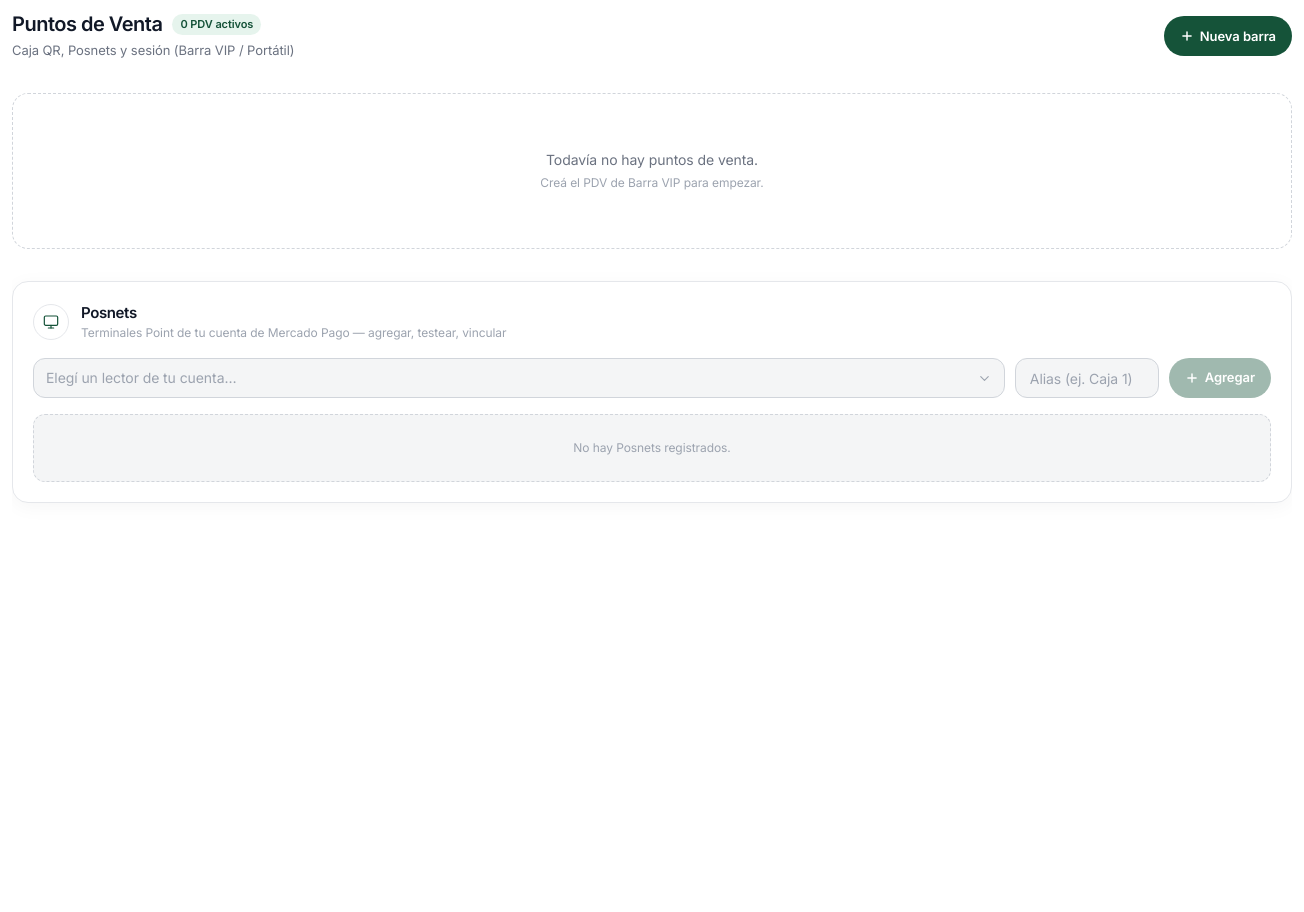
Test: PdvSection › registra un Posnet eligiéndolo de la lista de MP (el id no se tipea)
Check: the heading "Posnets" is shown, box x1=81 y1=302 x2=137 y2=322
Click the button with aria-label "Posnet reportado por Mercado Pago": [141, 378] box x1=33 y1=358 x2=1005 y2=398
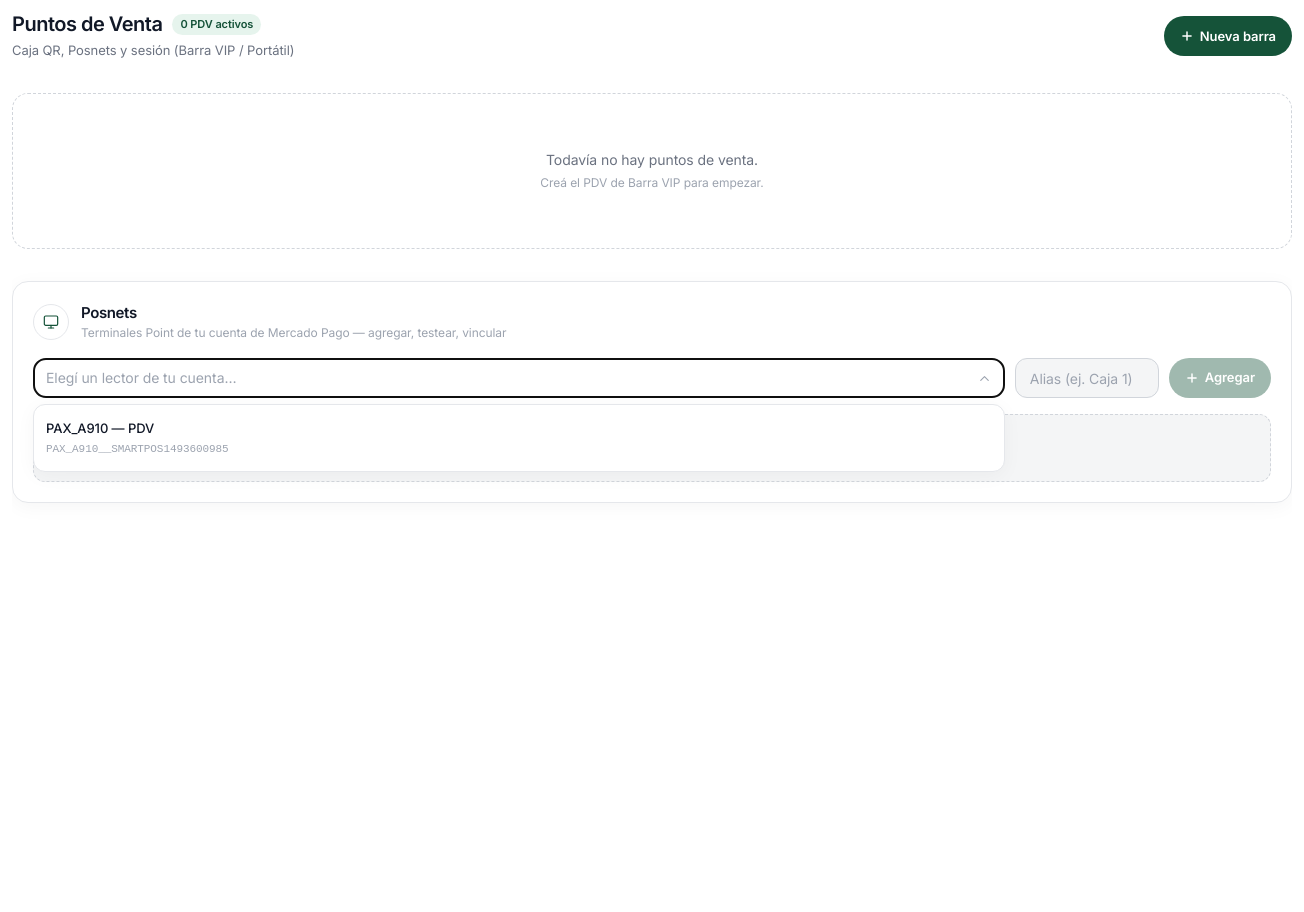
Click the option "PAX_A910 — PDV PAX_A910__SMARTPOS1493600985": [100, 428] box x1=34 y1=409 x2=1004 y2=467
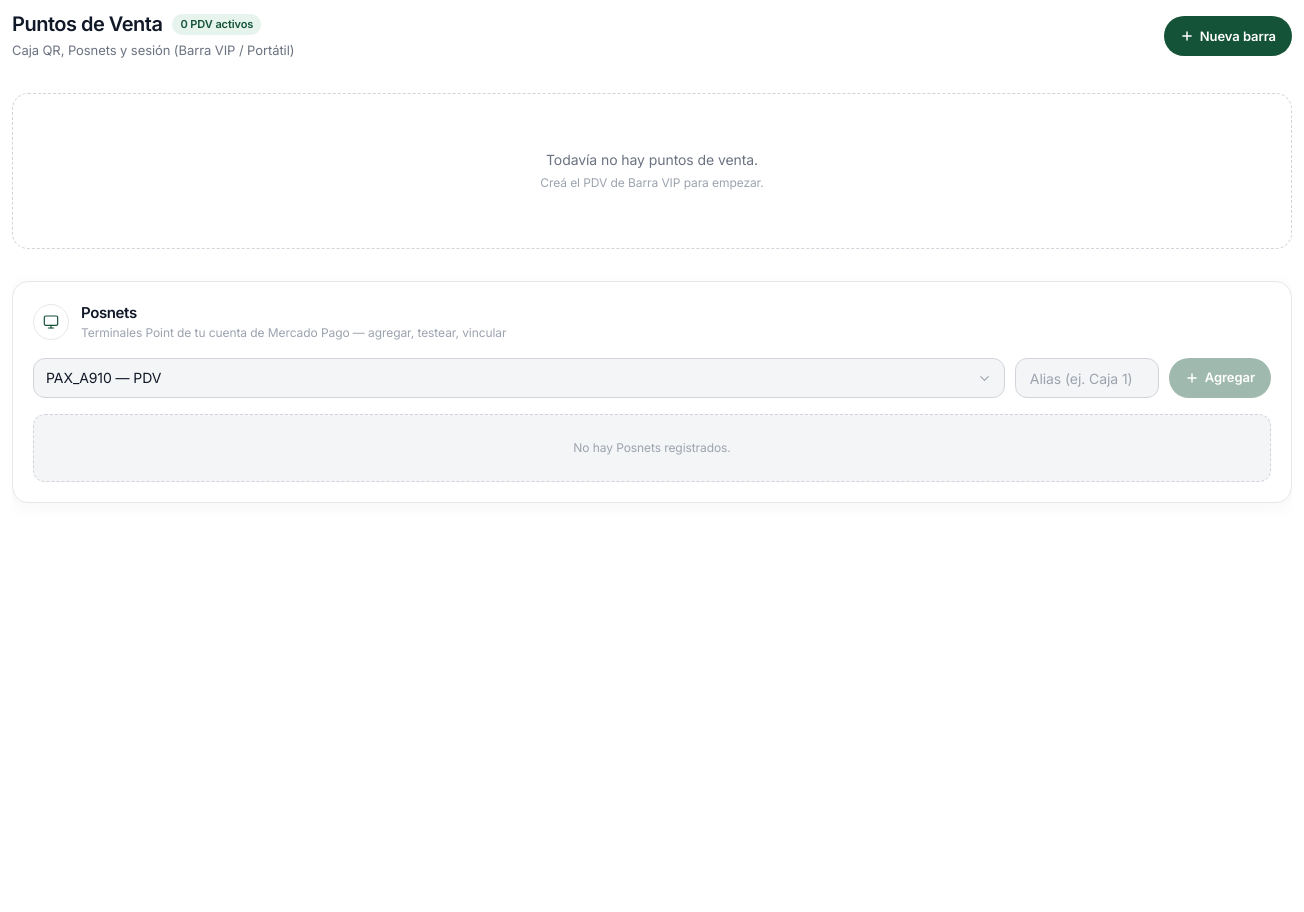
In the field named "Alias del Posnet": [1087, 378] box x1=1015 y1=358 x2=1159 y2=398, type "Caja 1"
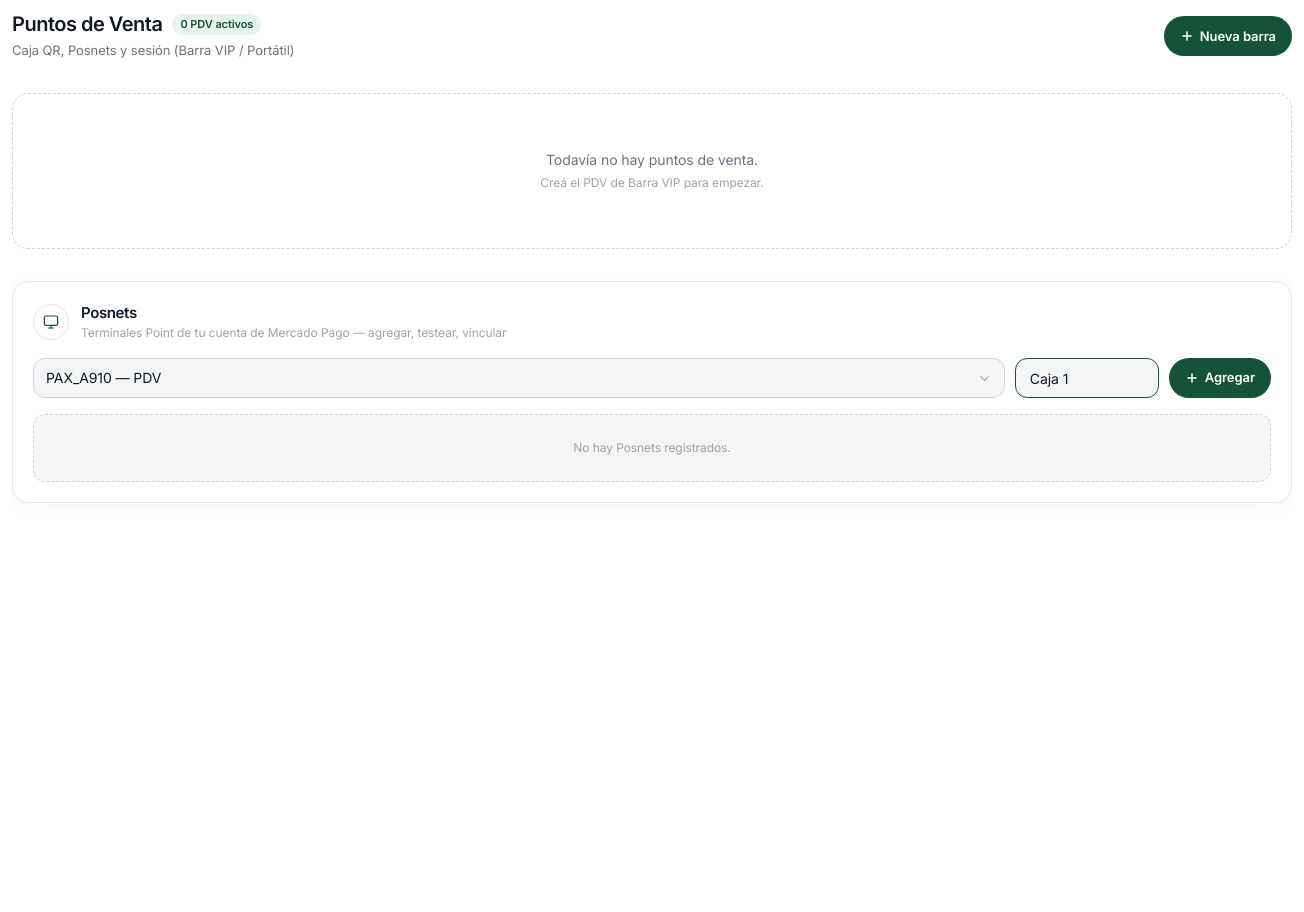
Click the button "Agregar": [1220, 378] box x1=1169 y1=358 x2=1271 y2=398
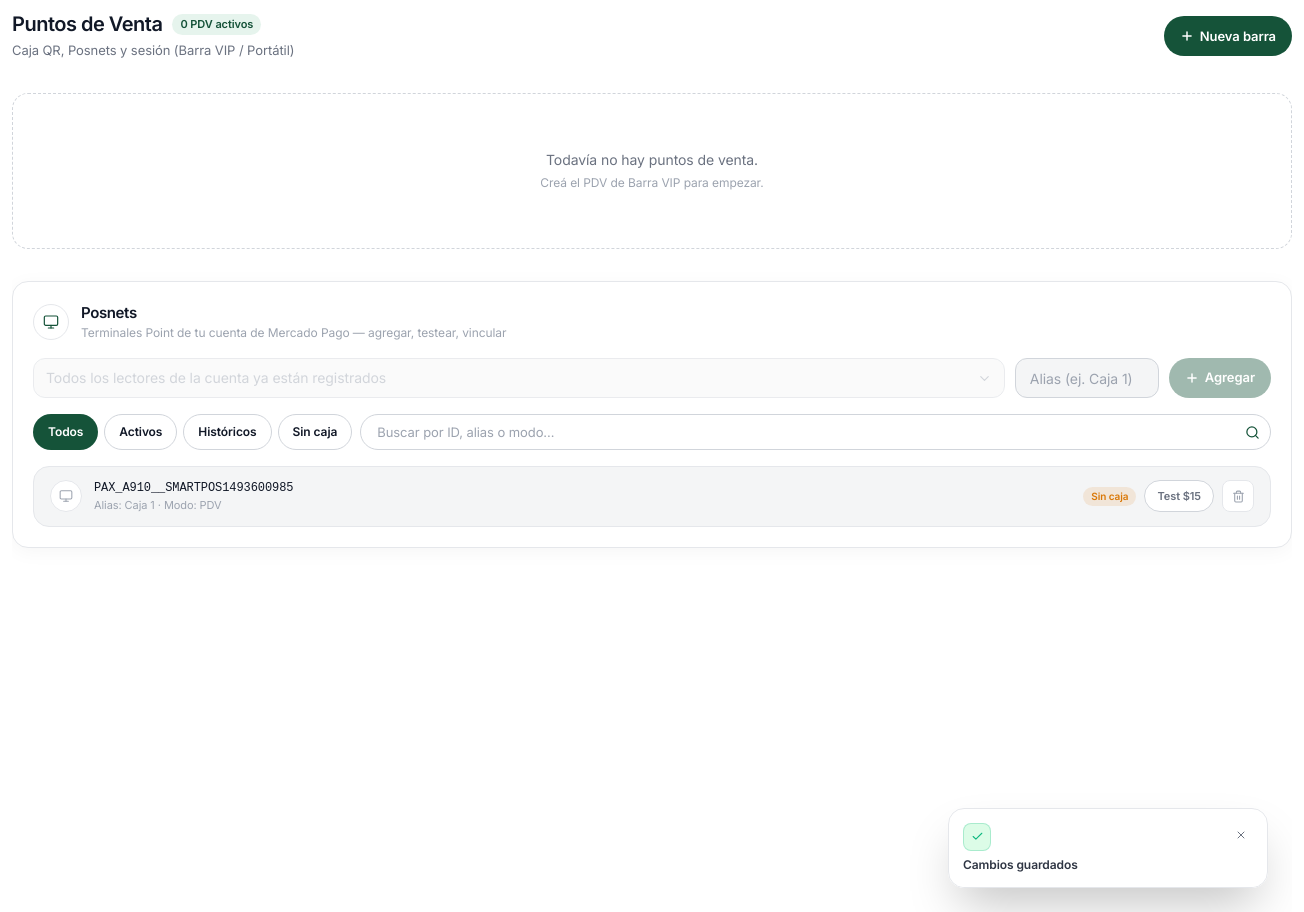
Check: the text "PAX_A910__SMARTPOS1493600985" is shown, box x1=94 y1=479 x2=293 y2=497
